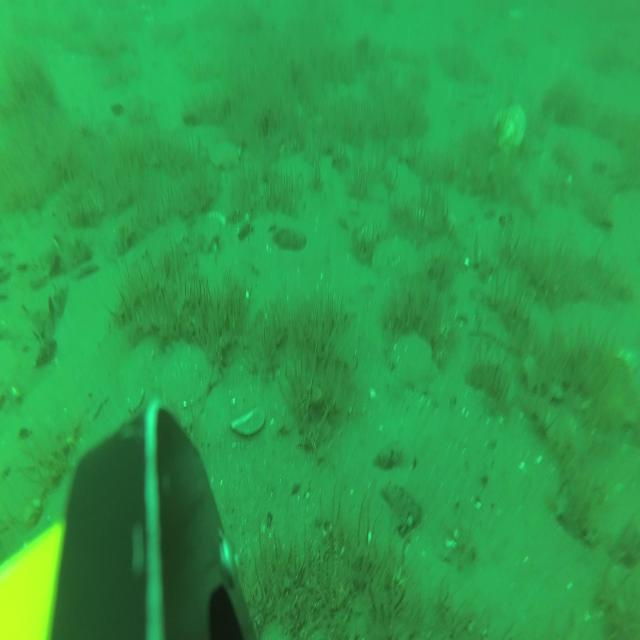scallop: (161, 344, 211, 431), (393, 333, 433, 390), (375, 235, 418, 281), (492, 103, 526, 154), (191, 120, 226, 149), (210, 142, 240, 168)
